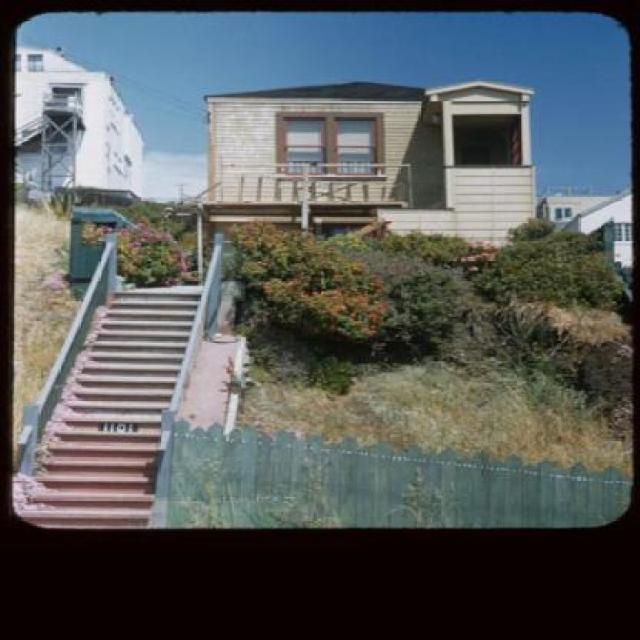stair: (14, 292, 198, 528)
